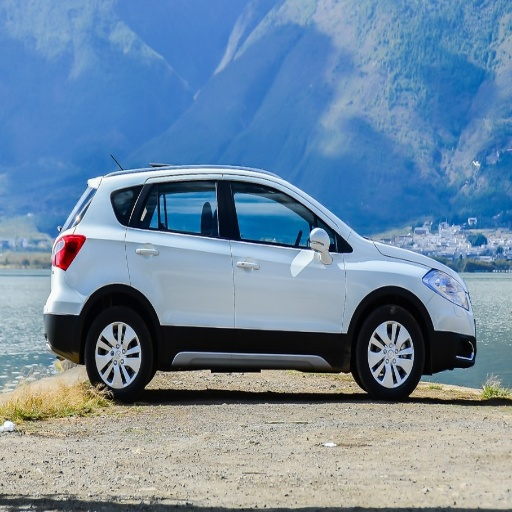back_bumper: (45, 266, 84, 319)
back_right_door: (126, 174, 234, 350)
front_right_door: (224, 175, 345, 358)
